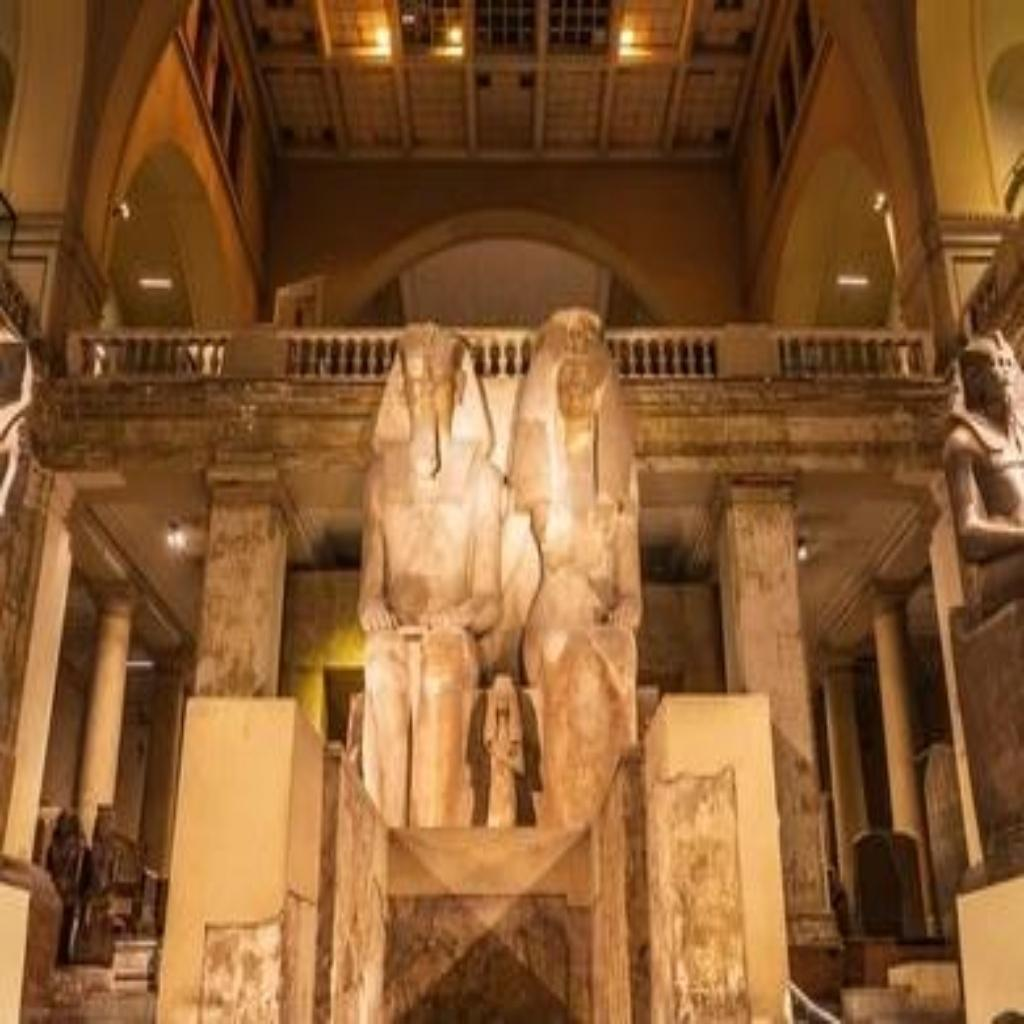Amenhotep III and Tiye: (352, 320, 650, 831)
